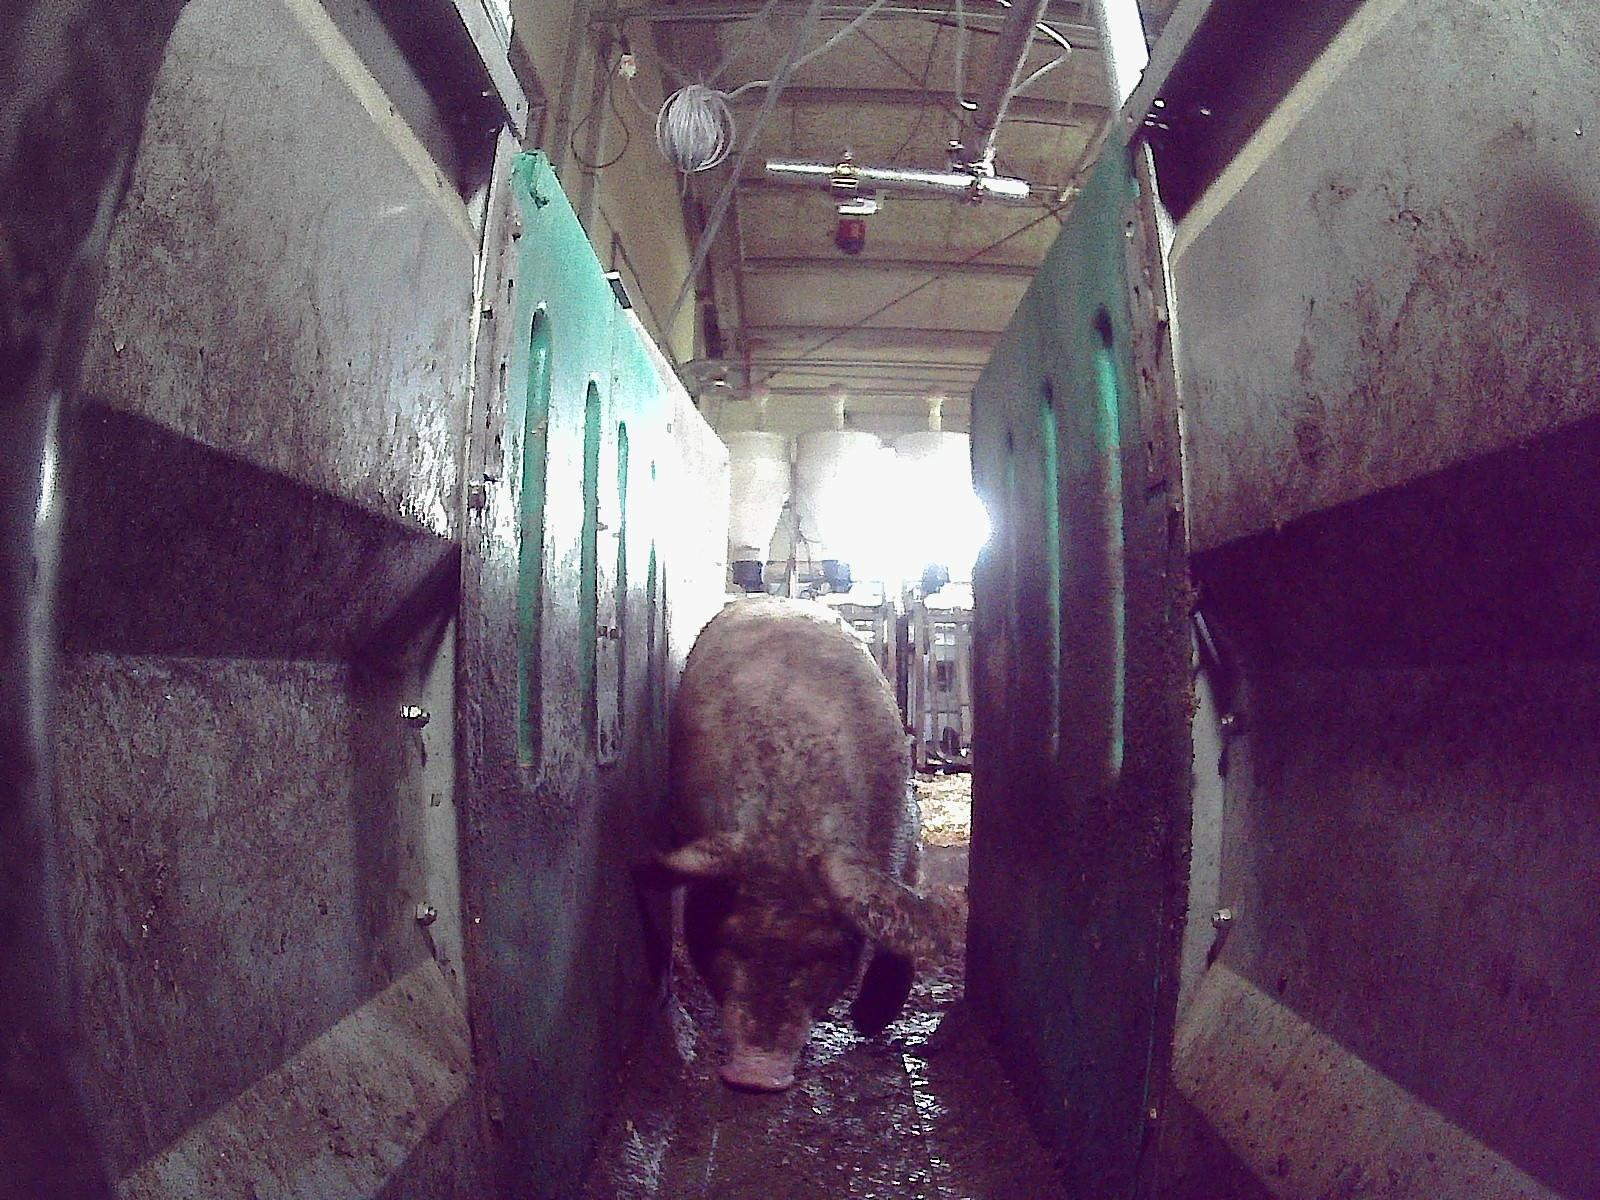Face: (685, 829, 880, 1092)
